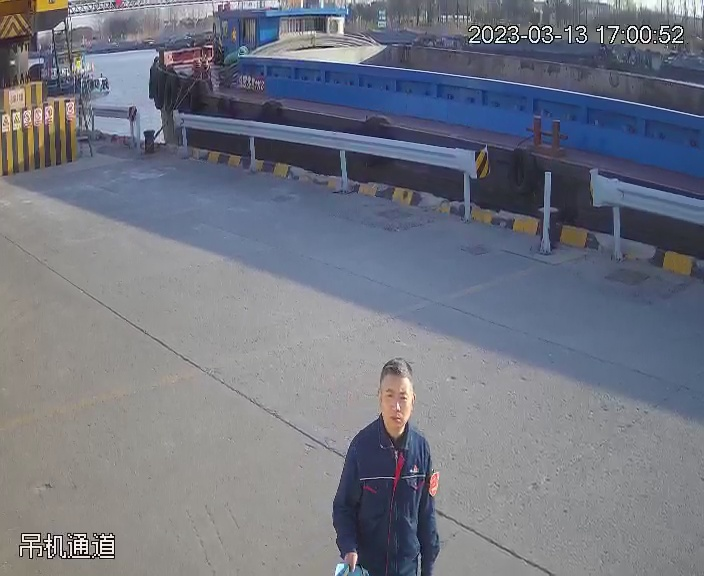head: (345, 358, 435, 477)
people: (331, 358, 451, 576)
